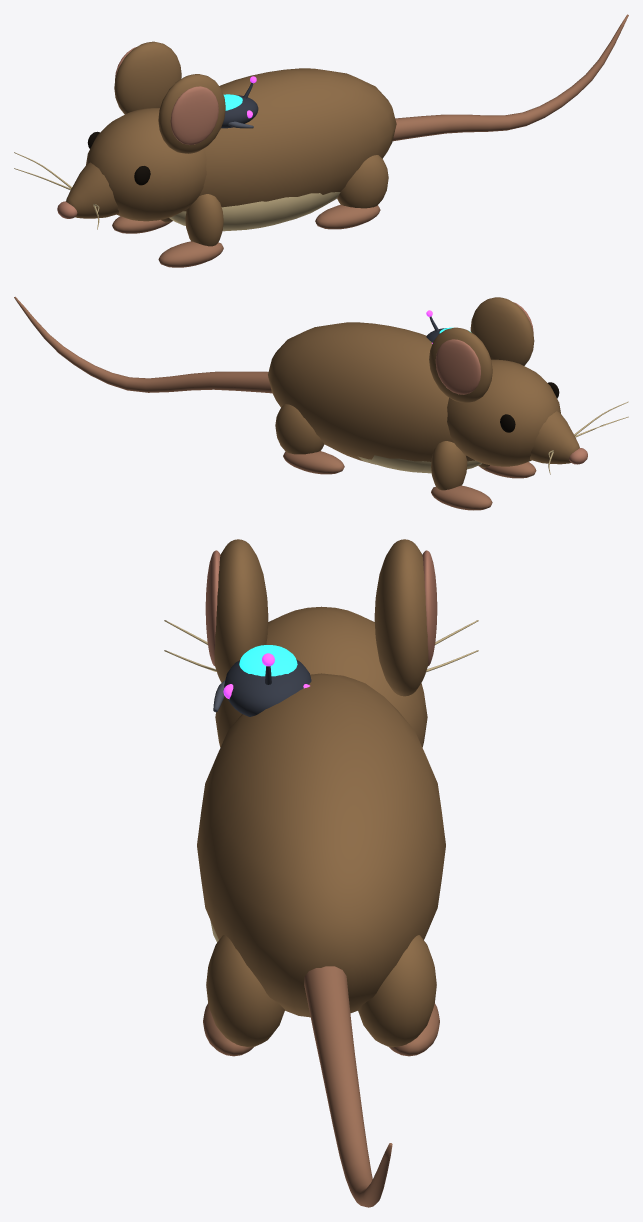
File: controlled_mouse.glb
3 renders of one model, top to bottom at view 1: azimuth 30°, elevation 25°; view 2: azimuth 150°, elevation 25°; view 3: azimuth 270°, elevation 25°, orthographic. The views are drawn at different scales.
Parts seen in each view (by area): view 1: Body, Head, NaturalTail, EarRim.001, Belly, EarInterior, EarRim, Snout, Haunch.001, Haunch, Paw, Paw.001 (+2 smaller); view 2: Body, Head, NaturalTail, EarRim, EarInterior.001, EarRim.001, Snout, Haunch.003, Haunch.002, Paw.002, Paw.003, Belly (+1 smaller); view 3: Body, NaturalTail, Head, EarRim.001, EarRim, Haunch.003, Haunch.001, ControlShell, CyanLens, EarInterior.001, EarInterior.
Boxes of the visible parts, x1,y1,x2,y2 form: Body: (183, 68, 396, 211); Head: (86, 108, 206, 221); NaturalTail: (392, 14, 628, 141); EarRim.001: (114, 41, 181, 114); Belly: (169, 192, 340, 231); EarInterior: (170, 86, 218, 144); EarRim: (158, 74, 225, 153); Snout: (66, 162, 118, 218); Haunch.001: (337, 155, 388, 208); Haunch: (185, 194, 223, 246); Paw: (158, 241, 223, 267); Paw.001: (315, 204, 380, 229); Body: (268, 322, 474, 464); Head: (447, 359, 560, 466); NaturalTail: (14, 296, 271, 393); EarRim: (470, 297, 534, 365); EarInterior.001: (435, 339, 480, 394); EarRim.001: (429, 327, 492, 402); Snout: (530, 411, 579, 464); Haunch.003: (275, 404, 324, 454); Haunch.002: (431, 441, 467, 490); Paw.002: (431, 485, 492, 510); Paw.003: (283, 451, 344, 474); Belly: (358, 455, 481, 473); Body: (197, 673, 445, 1017); NaturalTail: (304, 966, 392, 1207); Head: (215, 606, 427, 747); EarRim.001: (374, 539, 428, 696); EarRim: (214, 539, 268, 682); Haunch.003: (358, 935, 436, 1047); Haunch.001: (206, 935, 284, 1047); ControlShell: (224, 659, 311, 716); CyanLens: (239, 645, 297, 676); EarInterior.001: (422, 550, 437, 665); EarInterior: (205, 550, 220, 665).
Bounding box in the file's own units: 2.79 × 0.845 × 0.6815.
